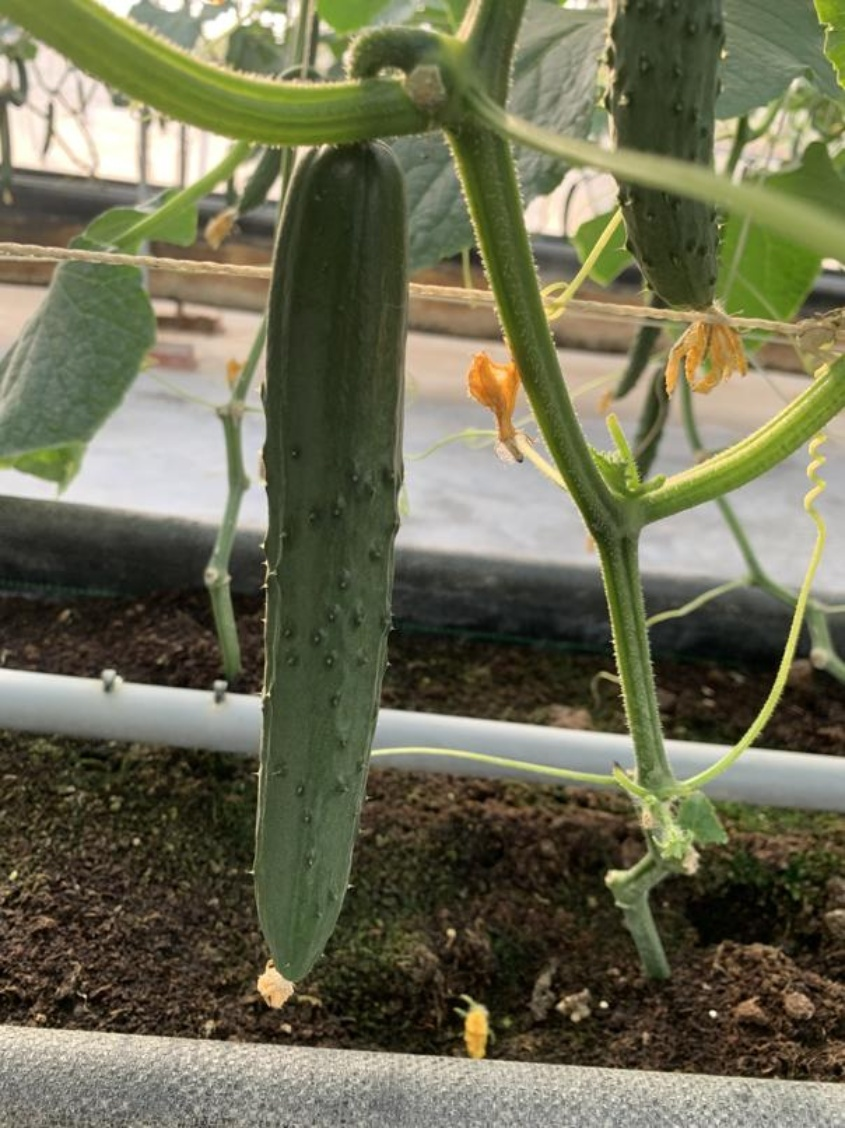mature: (211, 169, 432, 951)
